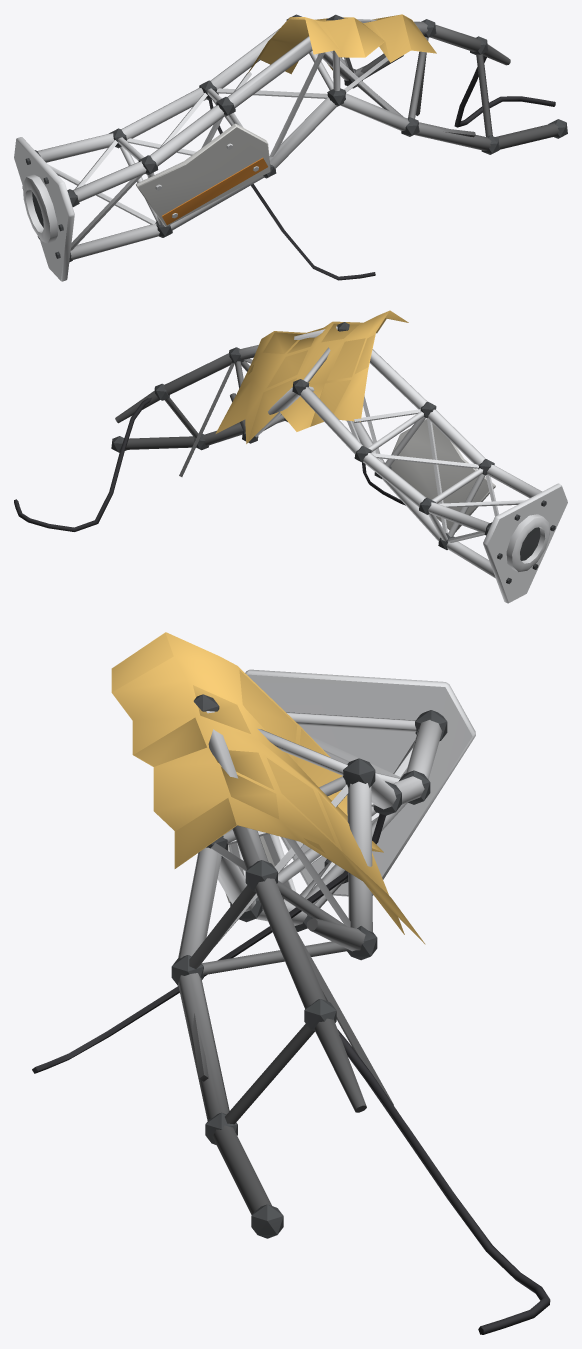
The model's file is debris_b.glb.
The picture shows the model from 3 angles, top to bottom: view 1: azimuth 30°, elevation 25°; view 2: azimuth 150°, elevation 25°; view 3: azimuth 270°, elevation 25°; orthographic projection. The views are drawn at different scales.
Parts seen in each view (by area): view 1: debris_b_mesh; view 2: debris_b_mesh; view 3: debris_b_mesh.
Boxes of the visible parts, box(x1,y1,x2,y2) form: debris_b_mesh: box(14, 14, 567, 281); debris_b_mesh: box(14, 310, 567, 603); debris_b_mesh: box(32, 632, 550, 1334).
Bounding box in the file's own units: 2.79 × 1.17 × 1.28.
